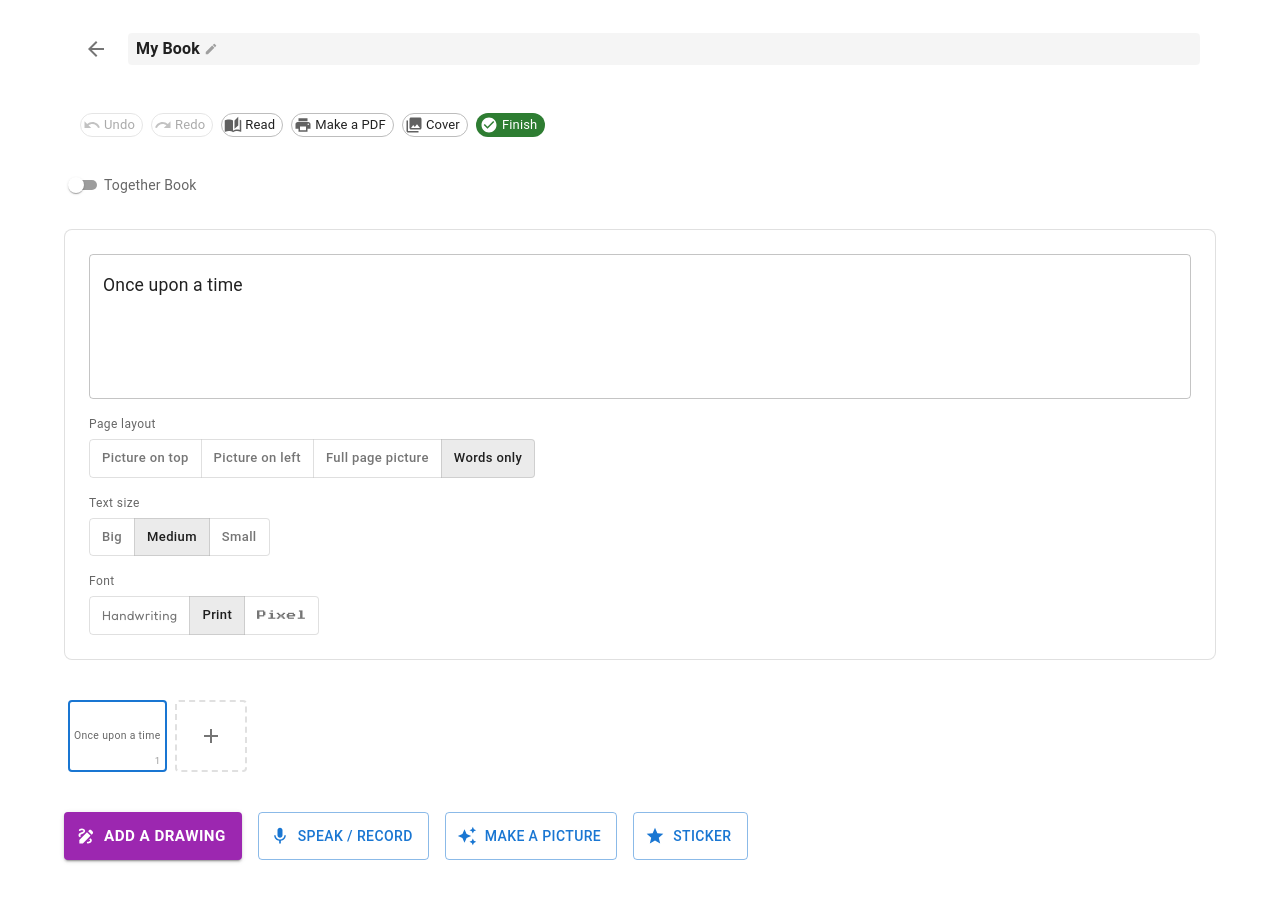
it: BookEditorPage — weekly art budget (FEAT-168) › a counter that never settles does not wedge the scene door (FEAT-167 contract)
(page scrolled)
Click the button "Make a picture".
click(531, 836)  # box [445, 812, 617, 860]
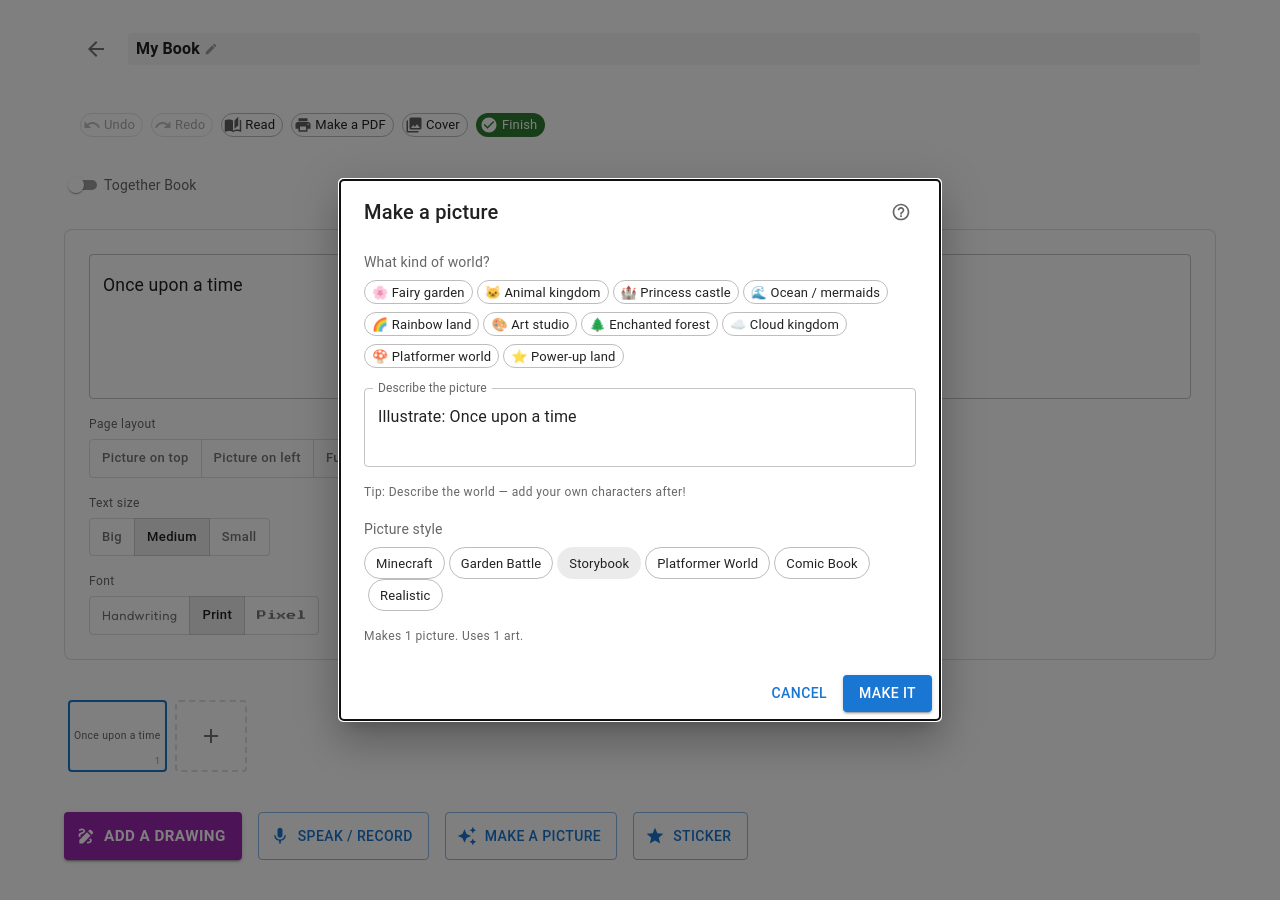
Type "a castle" into the text box labelled "Describe the picture".
click(640, 428); type("a castle")  # box [378, 405, 902, 451]
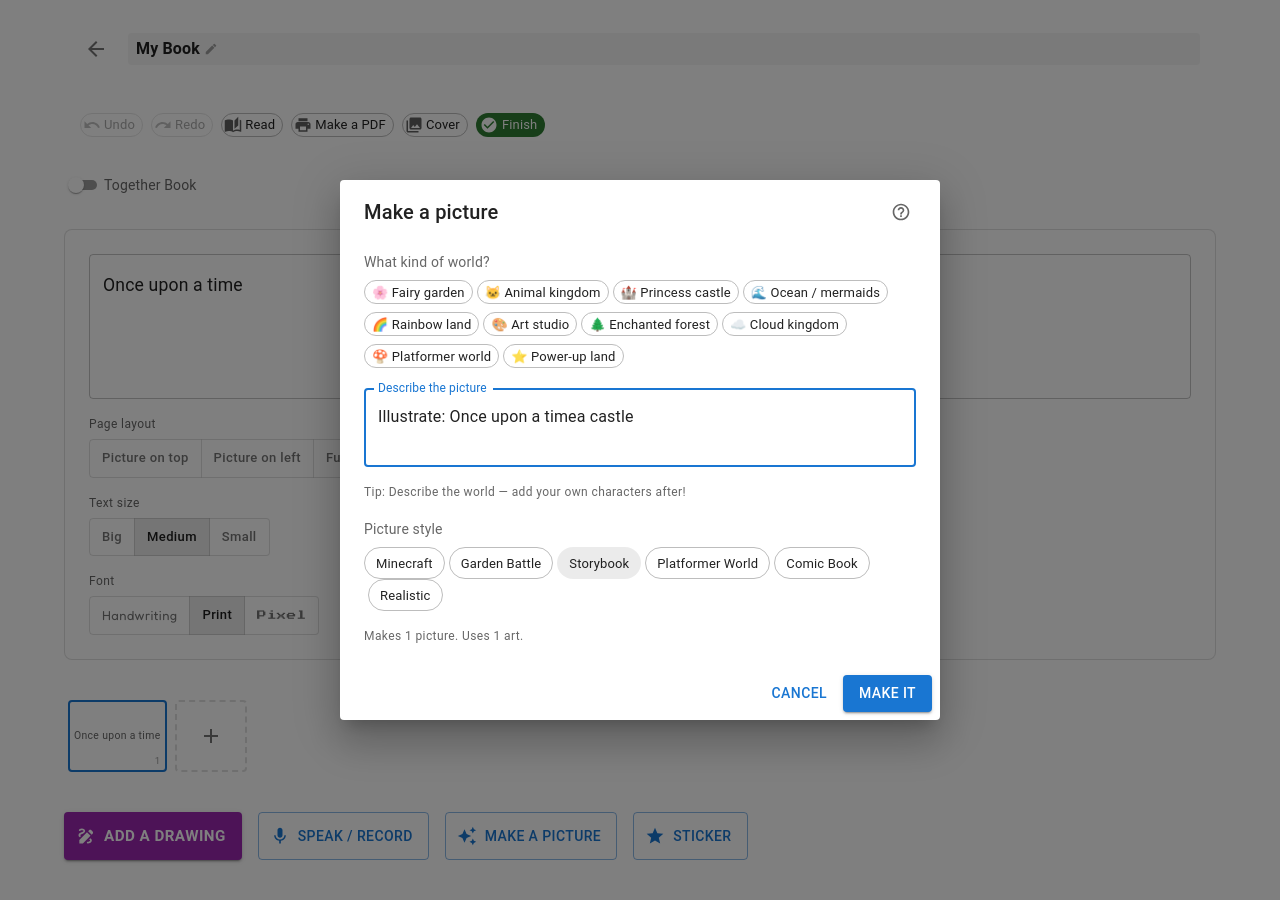
Click the button "Make it".
click(888, 693)  # box [843, 675, 932, 712]
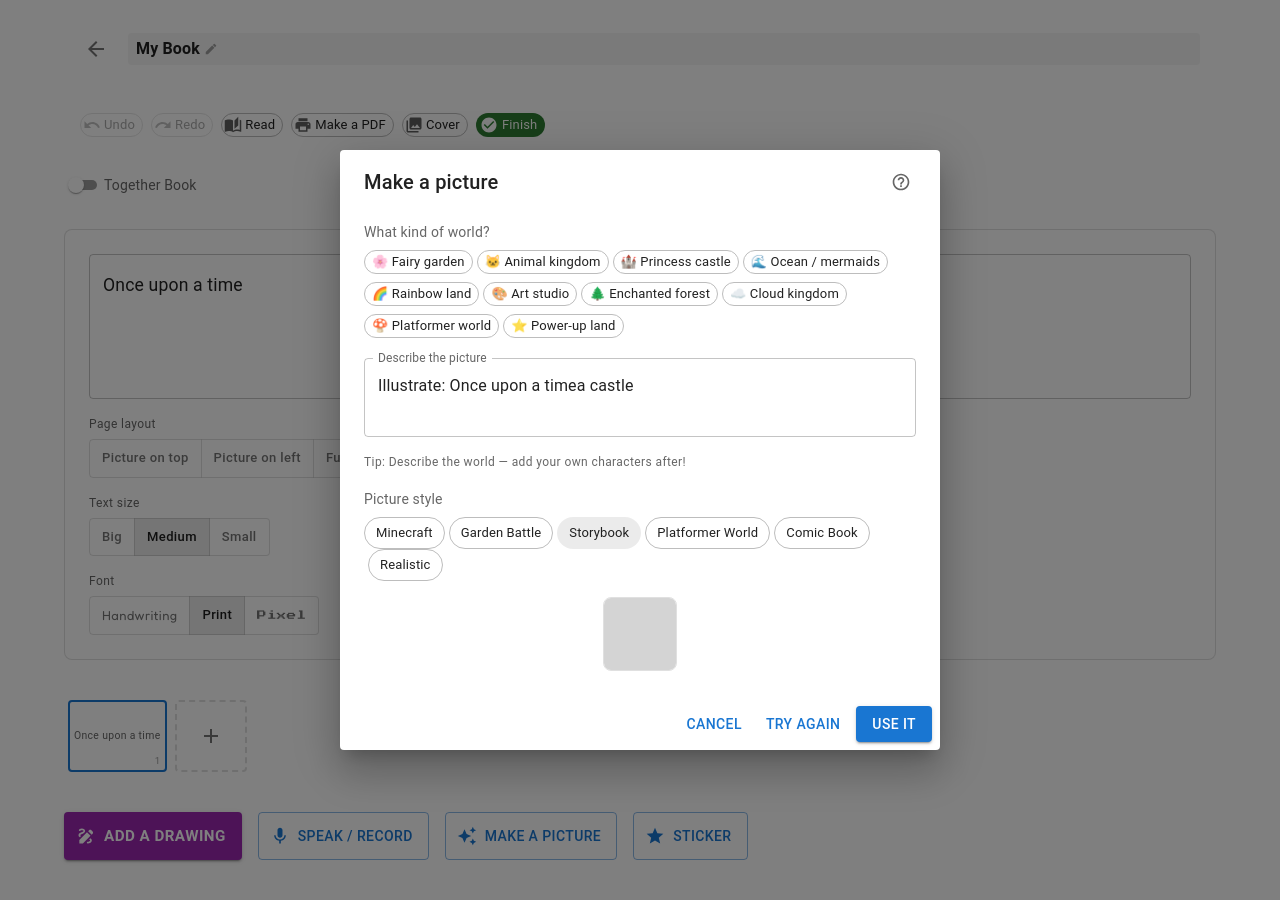
Expected: the button "Use it" is shown, [856, 706, 932, 742]
